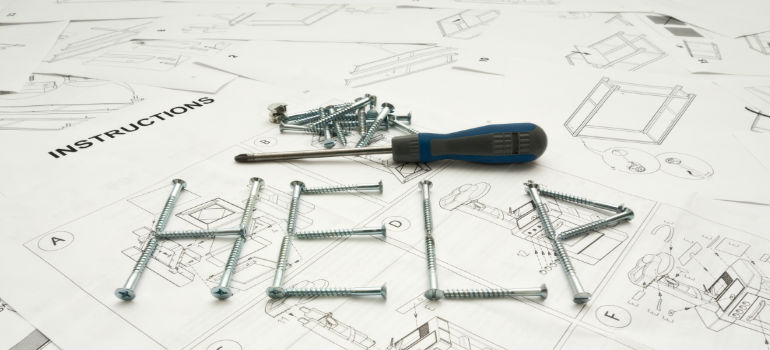screwdriver: (232, 119, 549, 175)
